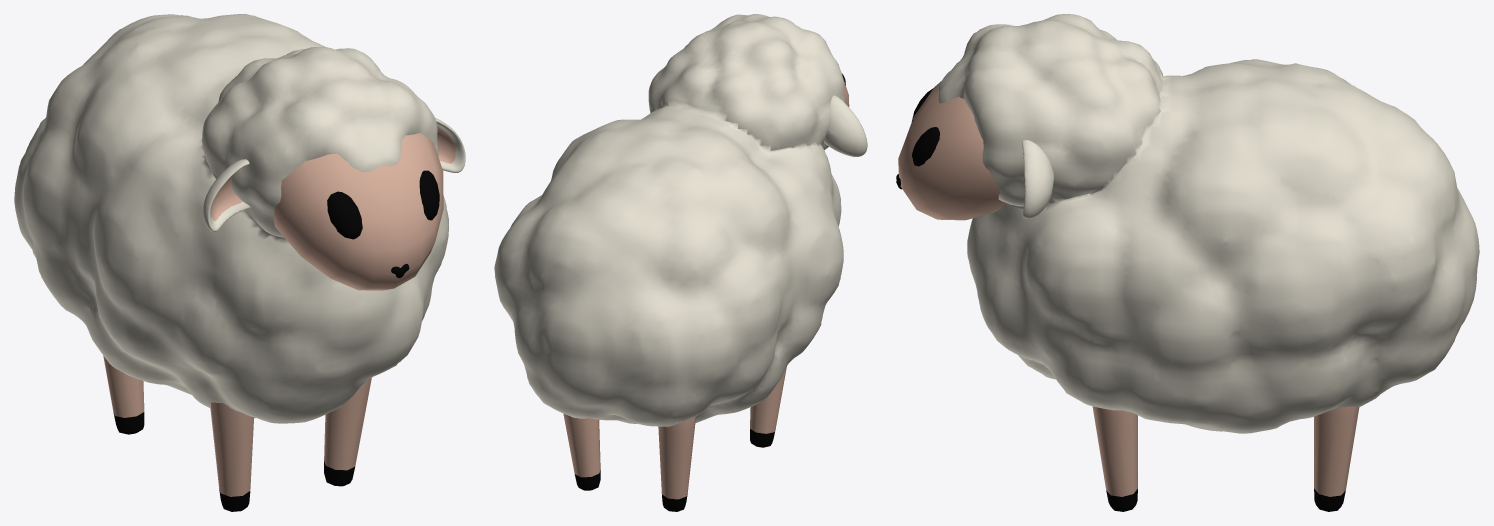
Rendered from sheep.glb.
3 renders of one model, left to right at view 1: azimuth 30°, elevation 25°; view 2: azimuth 150°, elevation 25°; view 3: azimuth 270°, elevation 25°, orthographic. The views are drawn at different scales.
Visible parts, largest first — view 1: Fur, Head, Legs, Ear, Eyes; view 2: Fur, Legs, Ear; view 3: Fur, Head, Legs, Ear, Eyes.
Boxes of the visible parts, left/top/right/bottom form: Fur: left=14, top=14, right=448, bottom=423; Head: left=274, top=133, right=443, bottom=290; Legs: left=103, top=356, right=371, bottom=511; Ear: left=203, top=118, right=465, bottom=231; Eyes: left=327, top=170, right=439, bottom=239; Fur: left=494, top=14, right=844, bottom=426; Legs: left=563, top=366, right=786, bottom=511; Ear: left=823, top=95, right=867, bottom=156; Fur: left=938, top=14, right=1479, bottom=433; Head: left=898, top=83, right=1007, bottom=220; Legs: left=1092, top=406, right=1359, bottom=511; Ear: left=1021, top=140, right=1054, bottom=218; Eyes: left=911, top=88, right=939, bottom=166.
Size of the model in its own units: 4.33 by 6.06 by 7.
